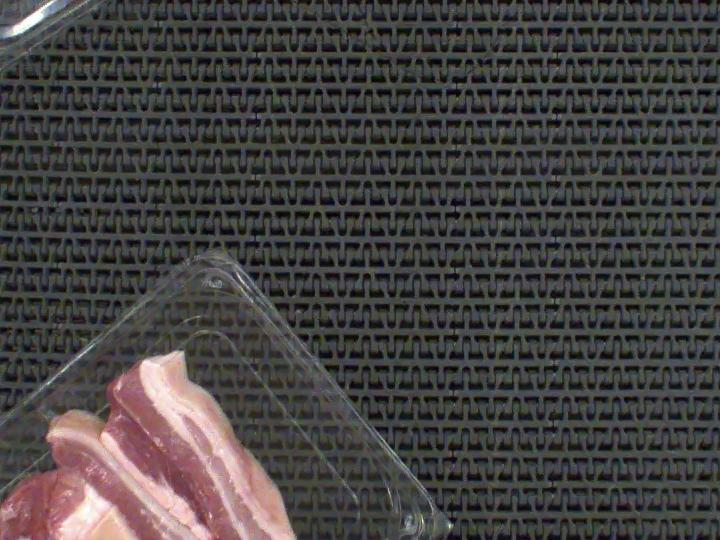packaging-error: (33, 398, 64, 422)
